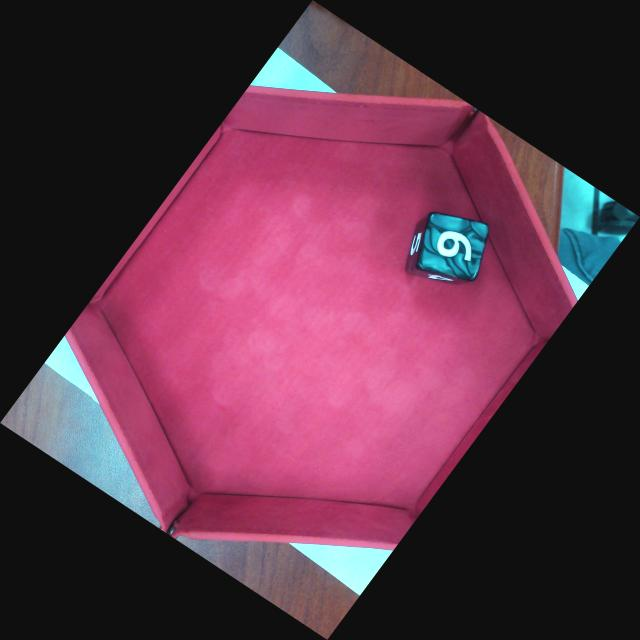dice: (414, 210, 492, 284)
